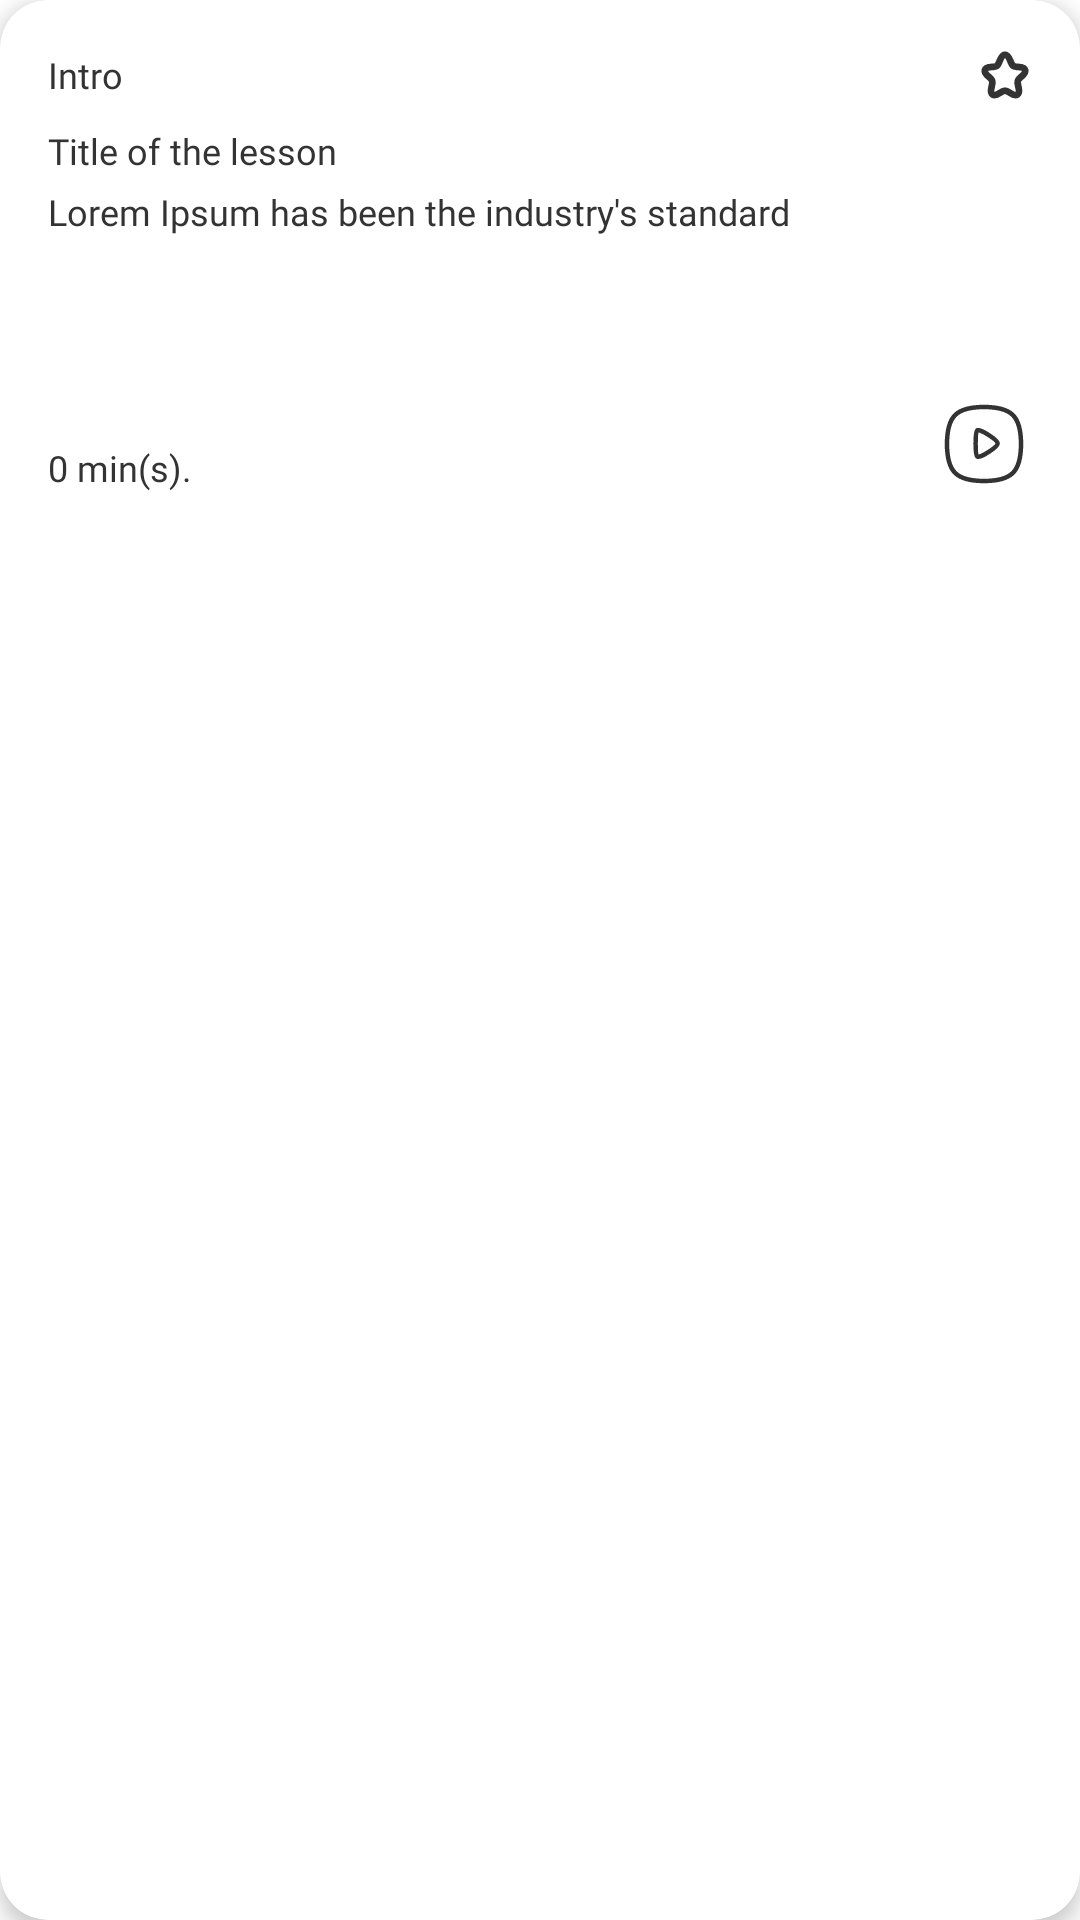

Icons on this 1080 x 1920 Android screen, each with its box as (x1, y1, x2, y2):
favorite: (981, 51, 1029, 99)
play: (944, 404, 1024, 484)
